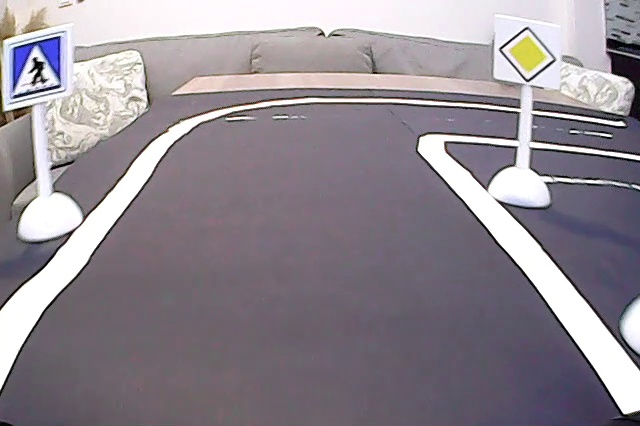pedestrian crossing: (9, 36, 63, 102)
